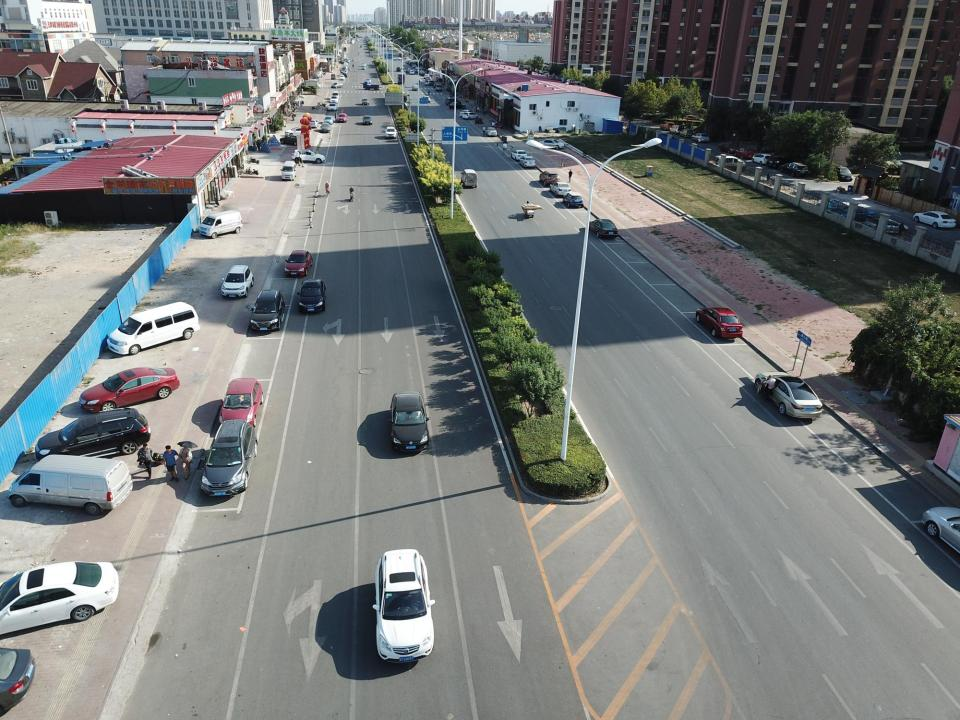car: (0, 562, 119, 636), (373, 547, 437, 661), (35, 408, 152, 460), (77, 366, 180, 412), (200, 419, 258, 496), (755, 371, 822, 419), (388, 390, 431, 453), (0, 645, 37, 709), (219, 377, 263, 424), (921, 506, 960, 552), (249, 290, 286, 332), (696, 307, 744, 337), (221, 265, 254, 297), (297, 278, 327, 312), (913, 210, 957, 229), (863, 218, 909, 236), (285, 250, 313, 276), (832, 206, 875, 221), (588, 218, 618, 238), (291, 149, 325, 163), (779, 162, 808, 178), (818, 198, 849, 210), (563, 192, 584, 209), (537, 138, 566, 150), (539, 170, 560, 186), (833, 166, 853, 182), (550, 182, 571, 197), (766, 155, 789, 168), (734, 147, 755, 159), (718, 142, 738, 154), (752, 152, 771, 164), (284, 127, 311, 135), (518, 156, 536, 168), (511, 149, 528, 161), (668, 124, 685, 135), (280, 135, 298, 145), (692, 132, 710, 142), (384, 126, 397, 138), (660, 121, 674, 131), (679, 129, 694, 138), (485, 127, 497, 137), (462, 112, 479, 119), (320, 122, 330, 133), (336, 113, 348, 122), (448, 102, 463, 109), (362, 115, 372, 125), (323, 115, 333, 124), (309, 119, 319, 128), (459, 110, 473, 116), (328, 103, 338, 111), (331, 82, 343, 88), (361, 98, 370, 105), (330, 96, 339, 103), (502, 144, 507, 155), (422, 96, 431, 102), (394, 56, 402, 61), (365, 78, 371, 84), (339, 75, 345, 80), (396, 66, 401, 72), (412, 85, 418, 90)
truck: (362, 81, 383, 90), (397, 73, 405, 84)
van: (7, 454, 133, 514), (107, 301, 199, 354), (199, 210, 243, 238), (280, 160, 297, 180), (460, 169, 478, 187), (444, 98, 461, 105), (425, 80, 434, 86), (435, 84, 442, 91), (331, 91, 339, 97), (330, 74, 336, 80)
